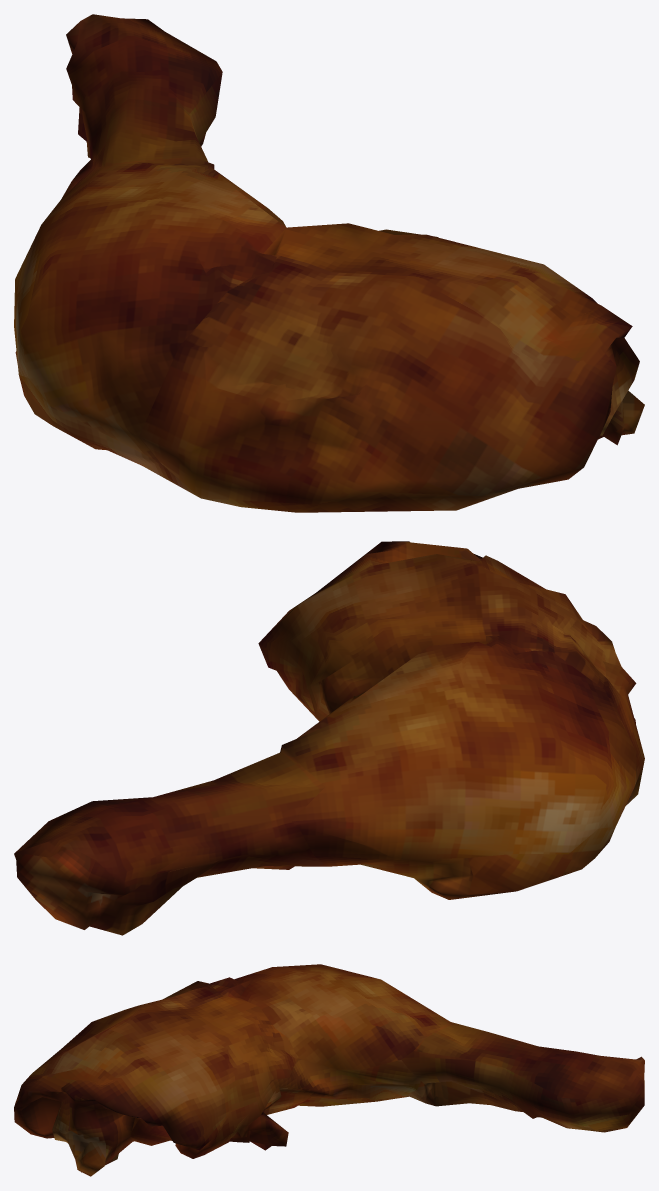
File: ref_chickenleg.glb
3 views of the same model, one above another, from view 1: azimuth 30°, elevation 25°; view 2: azimuth 150°, elevation 25°; view 3: azimuth 270°, elevation 25° (orthographic). The views are drawn at different scales.
Visible parts, largest first — view 1: ref_chickenleg; view 2: ref_chickenleg; view 3: ref_chickenleg.
Boxes of the visible parts, box(x1,y1,x2,y2) form: ref_chickenleg: box(14, 14, 644, 512); ref_chickenleg: box(14, 541, 644, 935); ref_chickenleg: box(14, 964, 644, 1176).
Size of the model in its own units: 0.5545 by 0.2291 by 1.
Materials: 1 (1 with a texture image).
